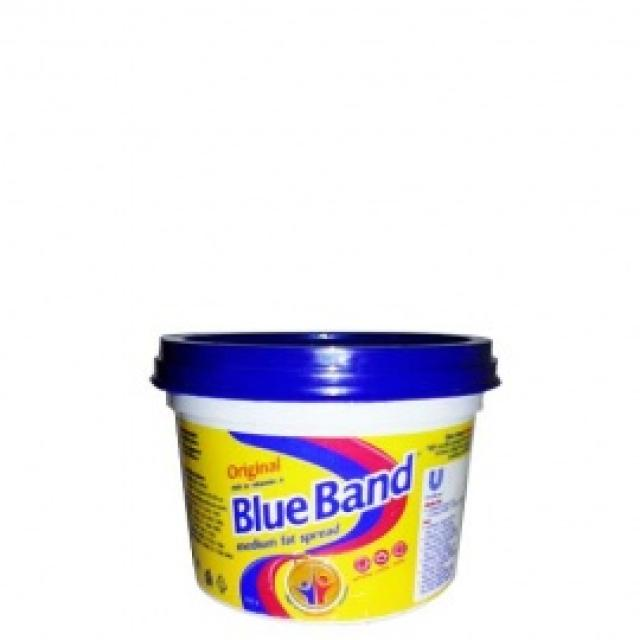butter: (147, 327, 500, 621)
